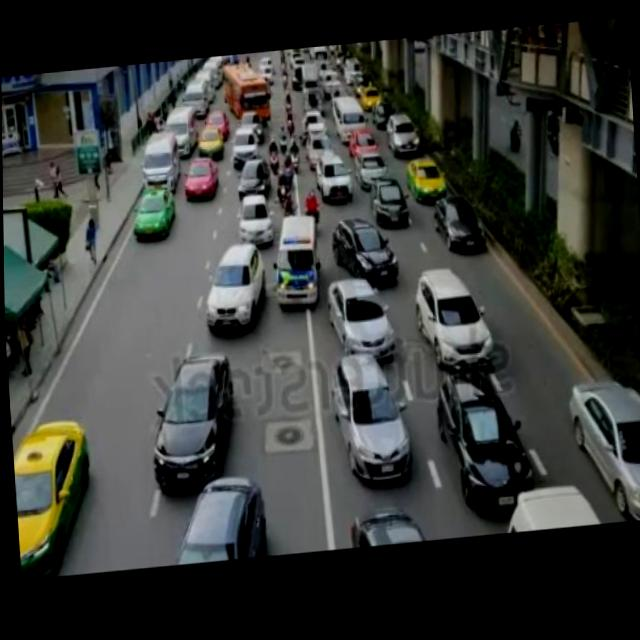emergency: (267, 235, 325, 313)
